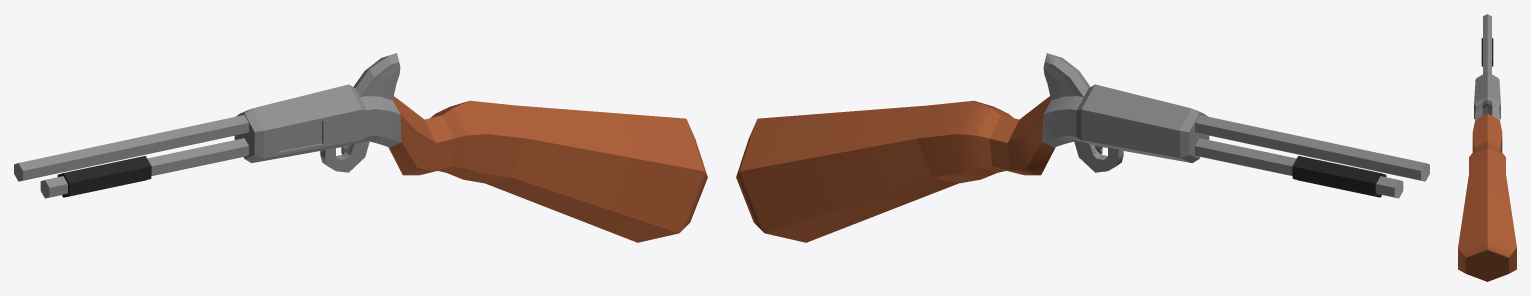
Rendered from shotgun.fbx.
3 renders of one model, left to right at view 1: azimuth 30°, elevation 25°; view 2: azimuth 150°, elevation 25°; view 3: azimuth 270°, elevation 25°, orthographic. The views are drawn at different scales.
Visible parts, largest first — view 1: pCylinder4; view 2: pCylinder4; view 3: pCylinder4.
Boxes of the visible parts, left/top/right/bottom form: pCylinder4: left=14, top=53, right=707, bottom=242; pCylinder4: left=736, top=53, right=1429, bottom=242; pCylinder4: left=1458, top=14, right=1516, bottom=281.
Size of the model in its own units: 10.72 by 3.76 by 1.62.
